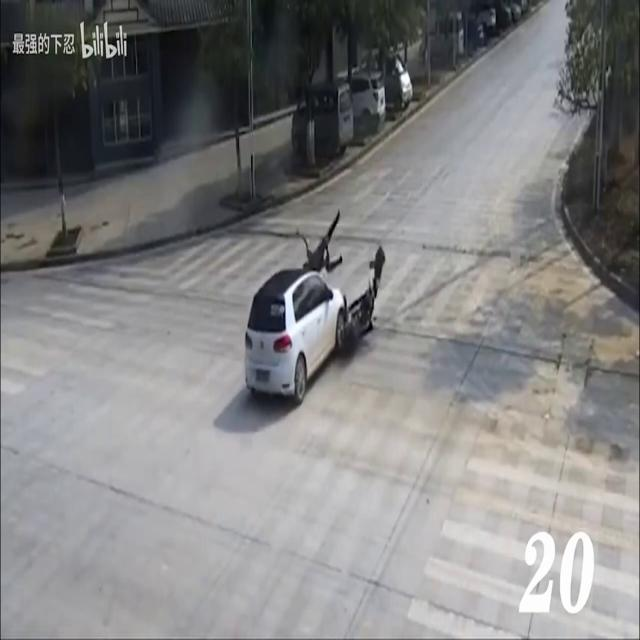multiple_accident: (199, 168, 386, 446)
normal: (497, 0, 637, 368)
